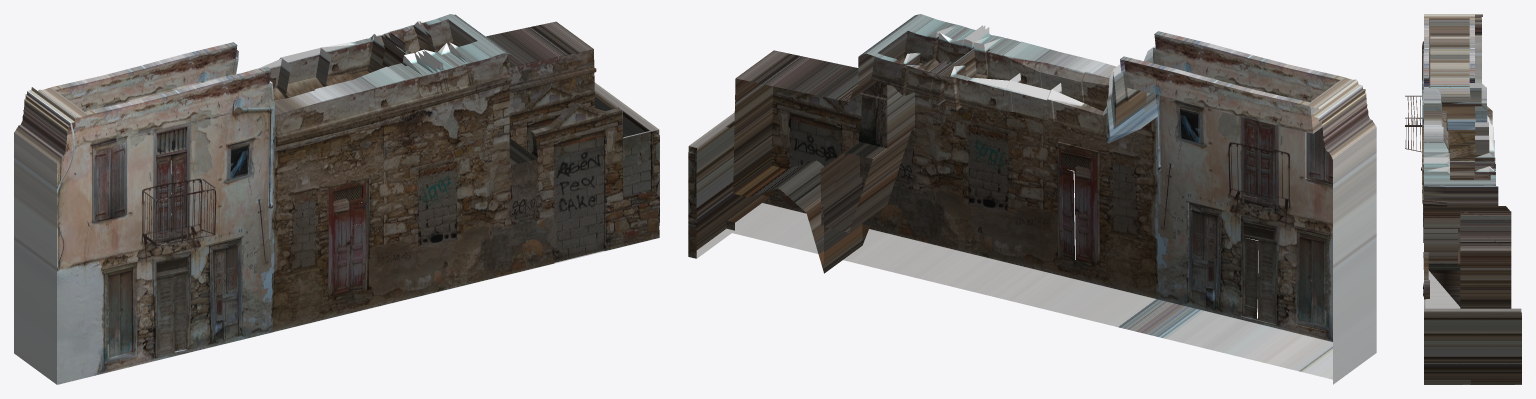
The picture shows the model from 3 angles, left to right: view 1: azimuth 30°, elevation 25°; view 2: azimuth 150°, elevation 25°; view 3: azimuth 270°, elevation 25°; orthographic projection. The views are drawn at different scales.
Parts seen in each view (by area): view 1: Plane001_Material #25_0; view 2: Plane001_Material #25_0; view 3: Plane001_Material #25_0.
Part boxes in pixels (x1,y1,x2,y2): Plane001_Material #25_0: (14,14,659,384); Plane001_Material #25_0: (688,14,1376,384); Plane001_Material #25_0: (1405,14,1521,384).
Size of the model in its own units: 547 by 228 by 135.
Materials: 1 (1 with a texture image).
